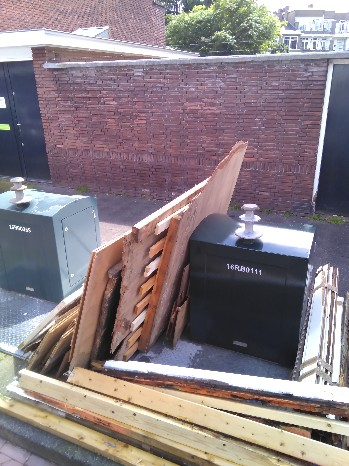Container: (198, 216, 300, 354), (6, 178, 87, 290)
Rest: (15, 378, 349, 466), (43, 225, 120, 384), (136, 183, 193, 363), (303, 259, 341, 373)
